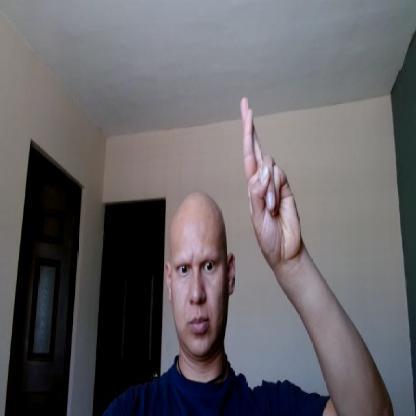R: (241, 97, 301, 260)
